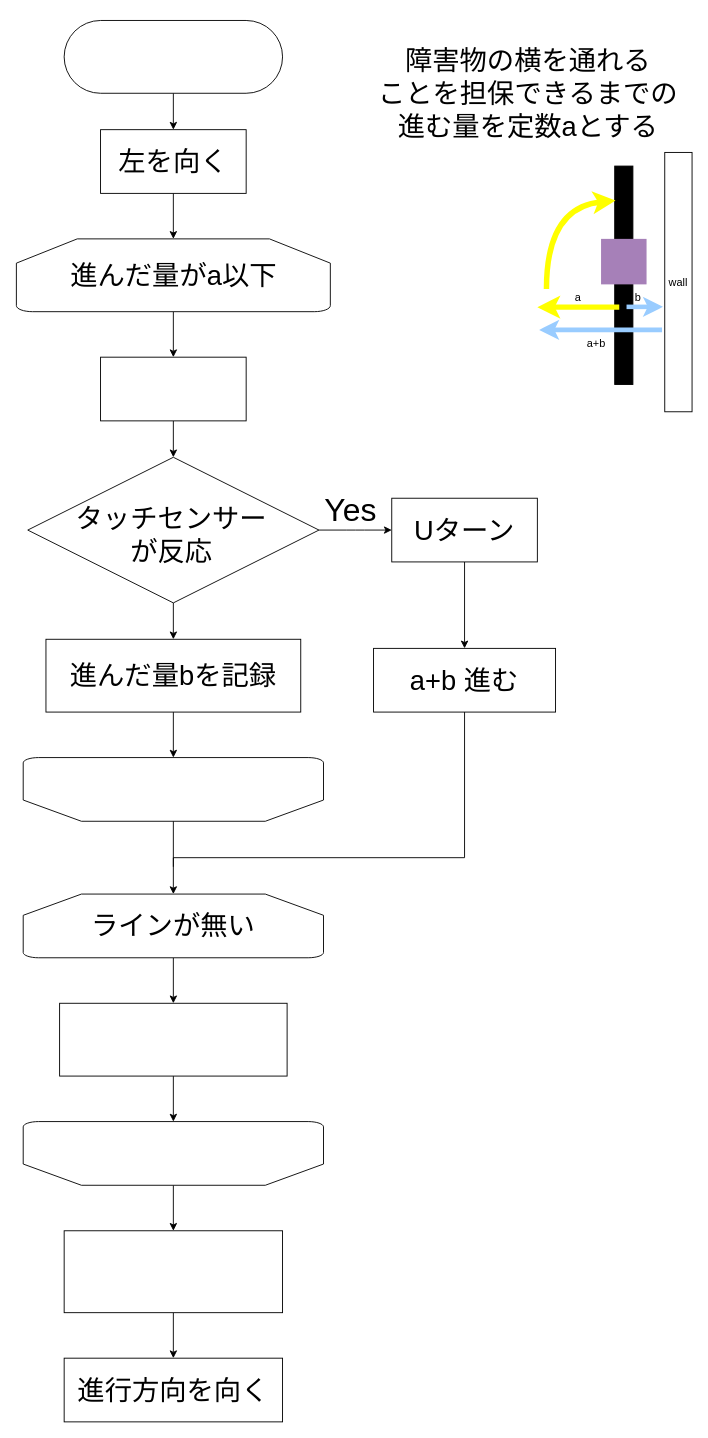
Some shapes in this 708 by 1438 pixel diagram are drawn without their labels. The box of each missing label's shape, as (x1, y1, x2, y2) in pixels:
機体をライン 中央に寄せる: (63, 1230, 283, 1313)
進む: (100, 356, 246, 421)
障害物を ぐるっと廻る: (59, 1002, 287, 1076)
障害物回避: (63, 20, 283, 93)
